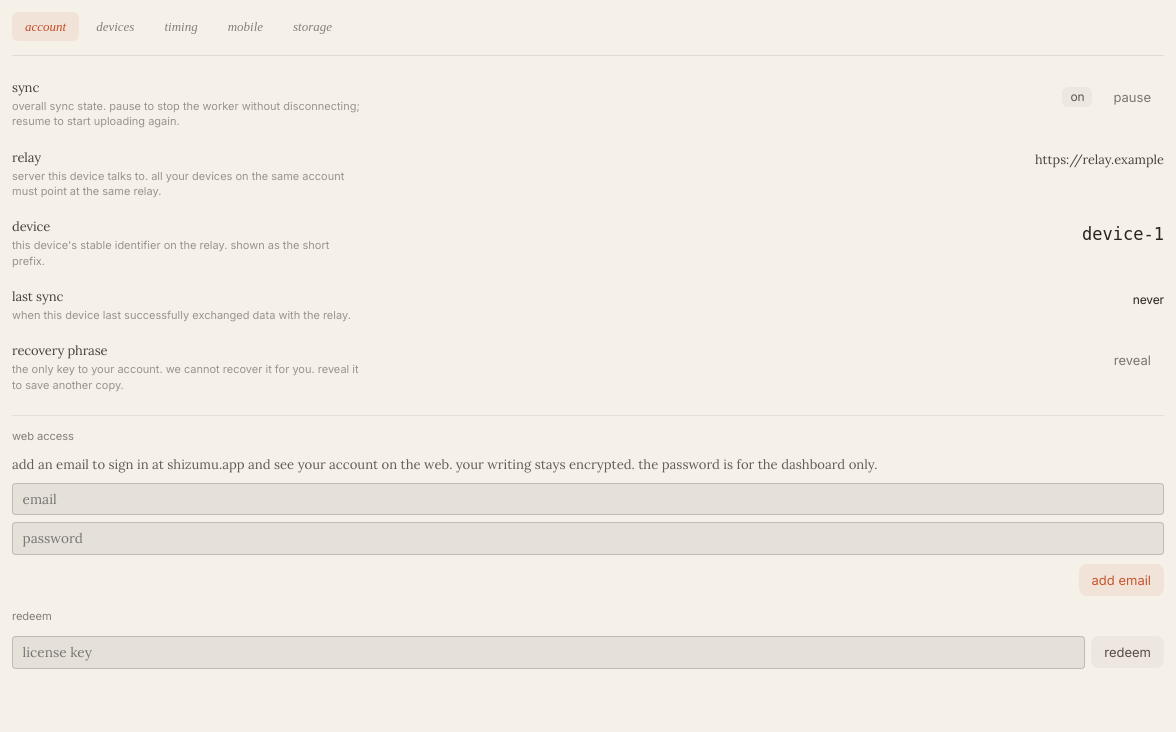
Test: SyncSettings › storage tab › labels synced bytes as synced (not used) and shows a separate local total
What coordinates should you click on to do the following:
click the button with class "sync-tab" showing "storage"
I would click on:
 (312, 26)
Its box is [280, 12, 345, 41].
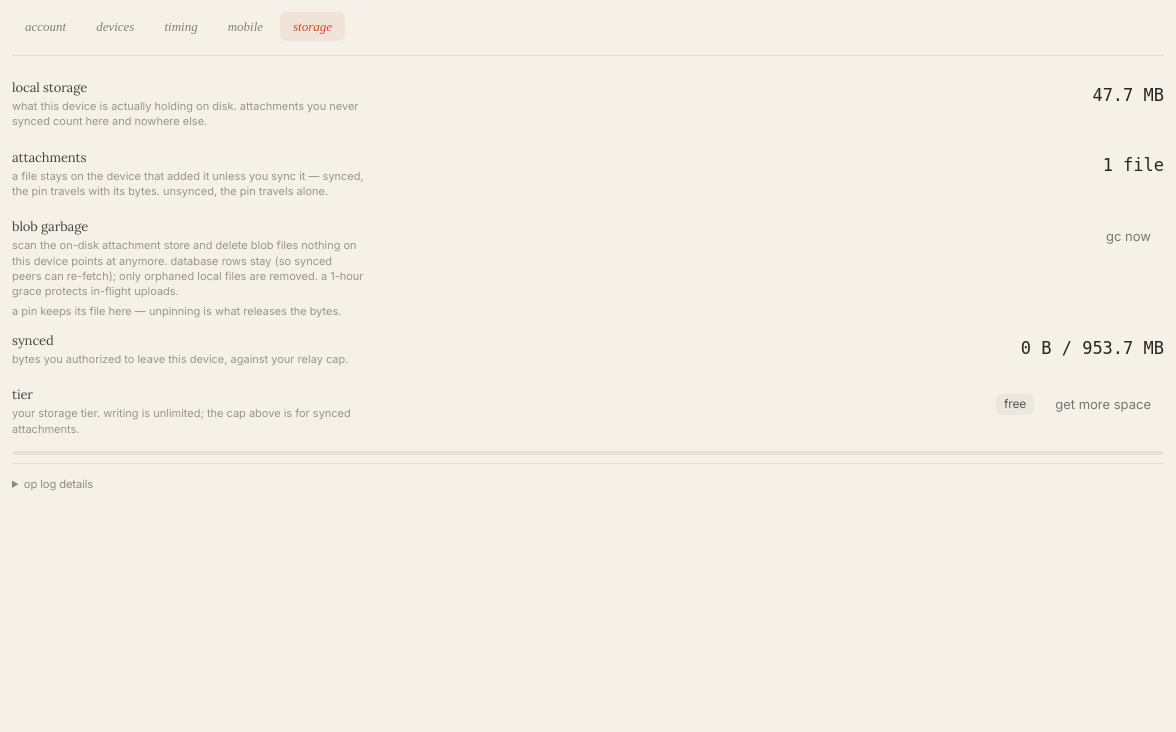
Expected: the text "synced" is shown, [12, 332, 54, 349]
Expected: the text "47.7 MB" is shown, [1092, 81, 1164, 110]
Expected: the text "0 B / 953.7 MB" is shown, [1021, 334, 1164, 363]
